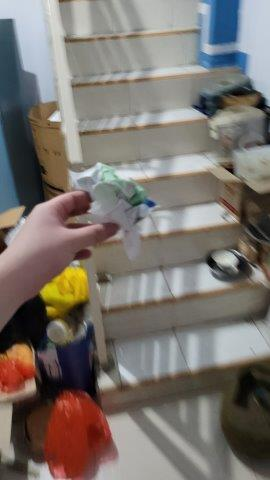kertas: (67, 158, 159, 261)
